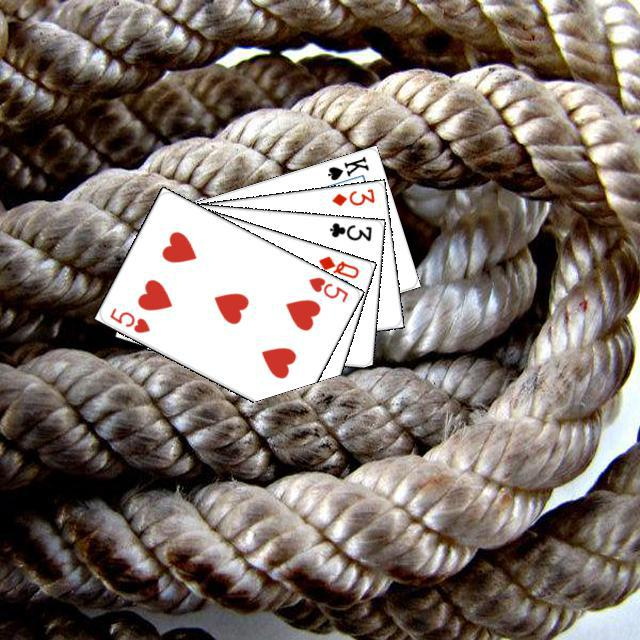3c: (324, 218, 373, 243)
3d: (327, 184, 376, 207)
5h: (303, 272, 350, 304), (104, 303, 151, 335)
Ks: (322, 151, 371, 182)
Qd: (314, 251, 360, 280)
